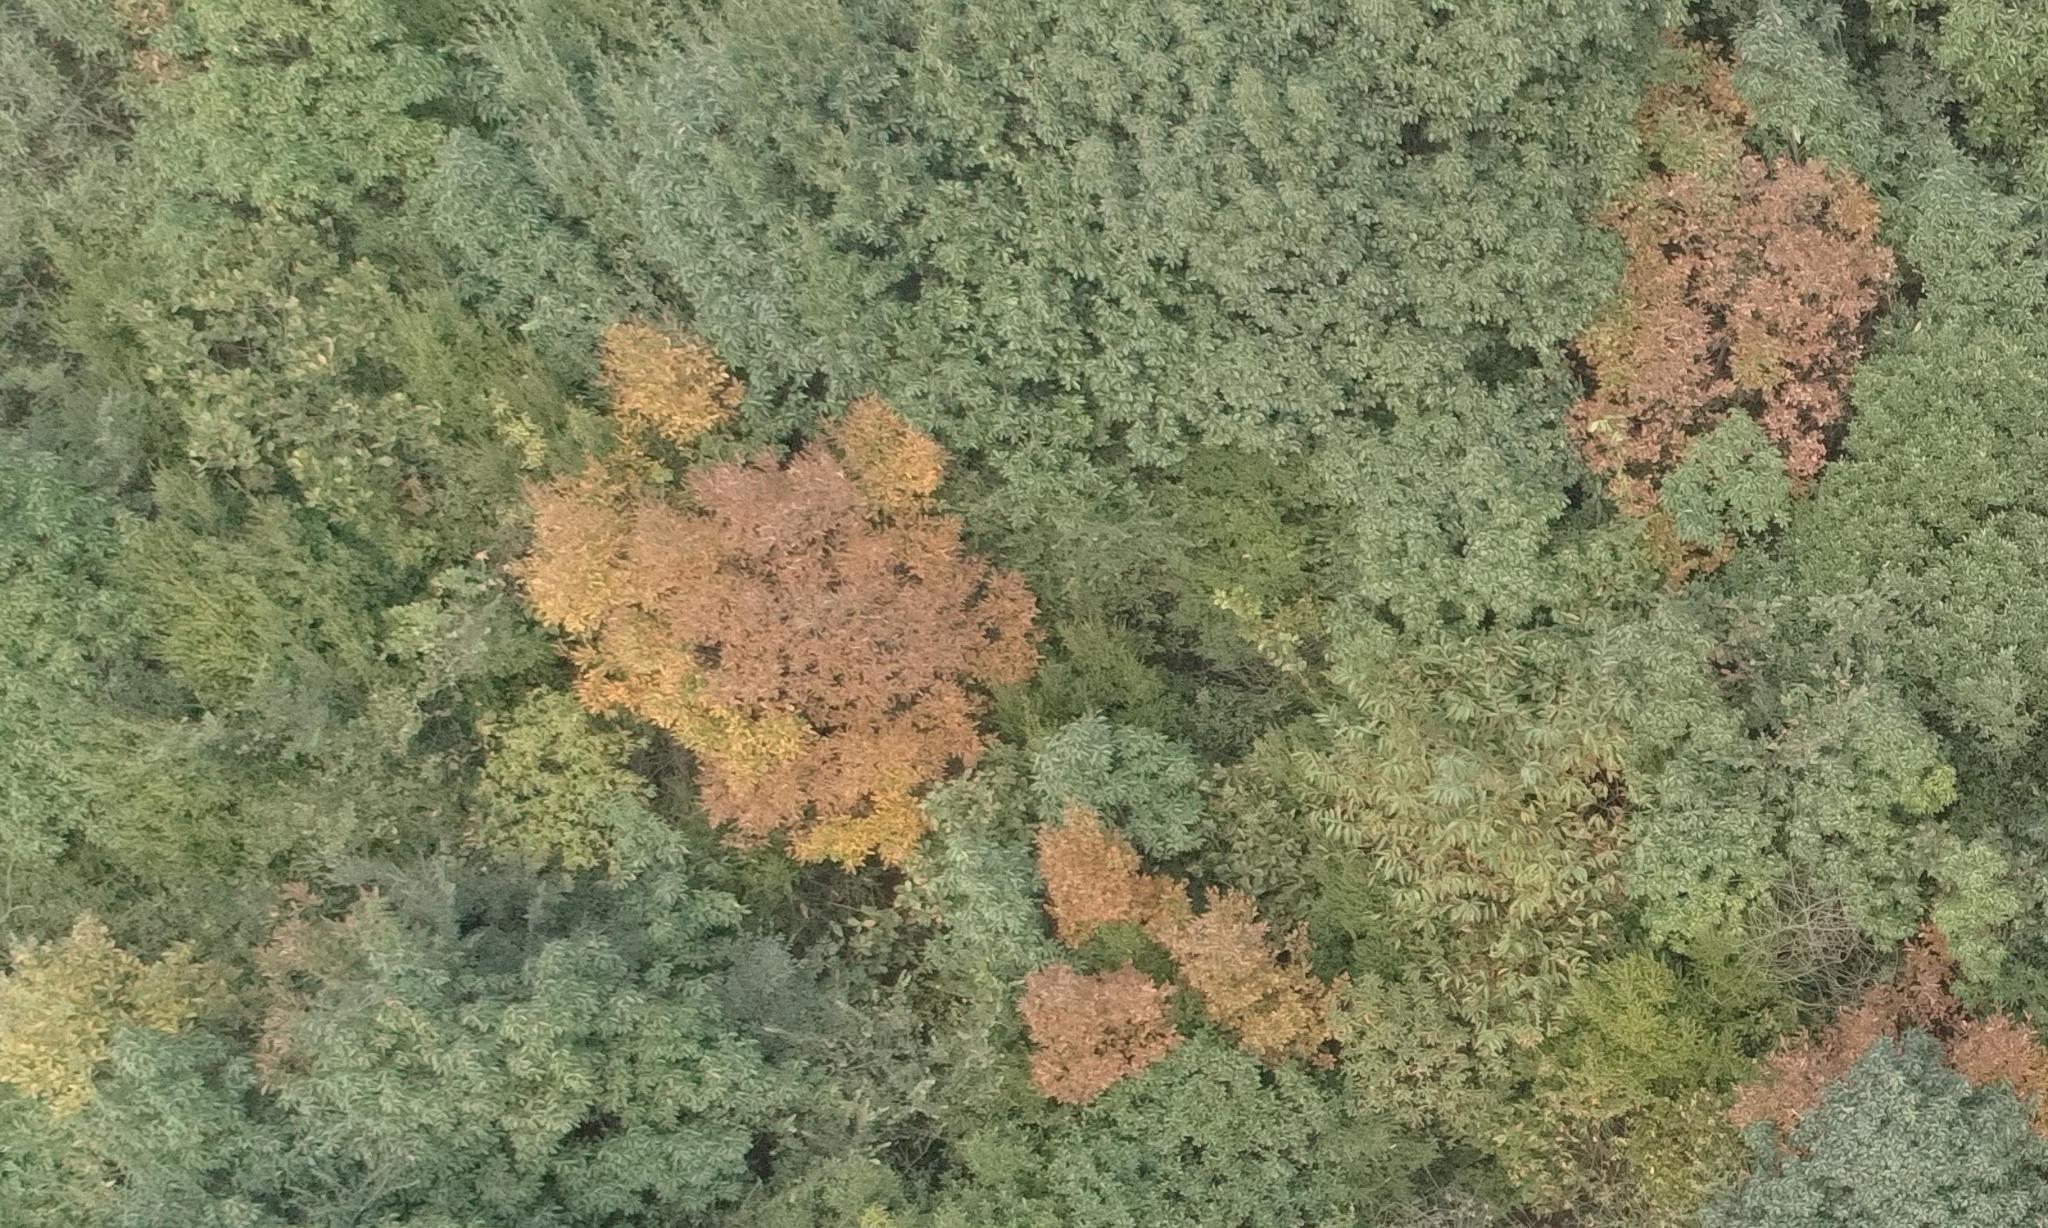heavy: (512, 325, 1042, 871), (1595, 104, 1908, 484), (1174, 893, 1327, 1057), (1020, 965, 1156, 1096), (1051, 813, 1152, 946)
